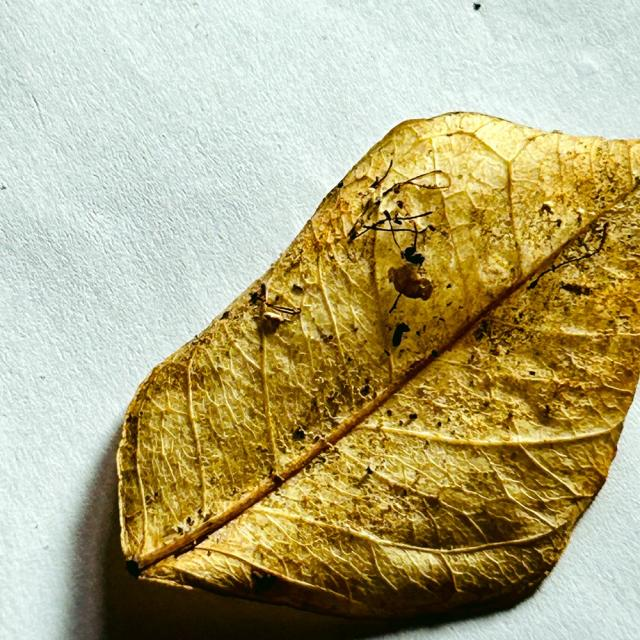DryLeaf_Lemon: (116, 112, 639, 617)
